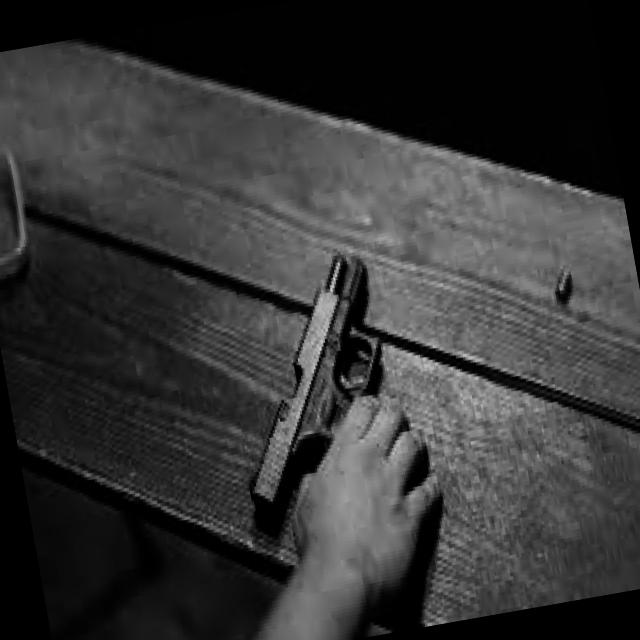gun: (208, 243, 409, 539)
